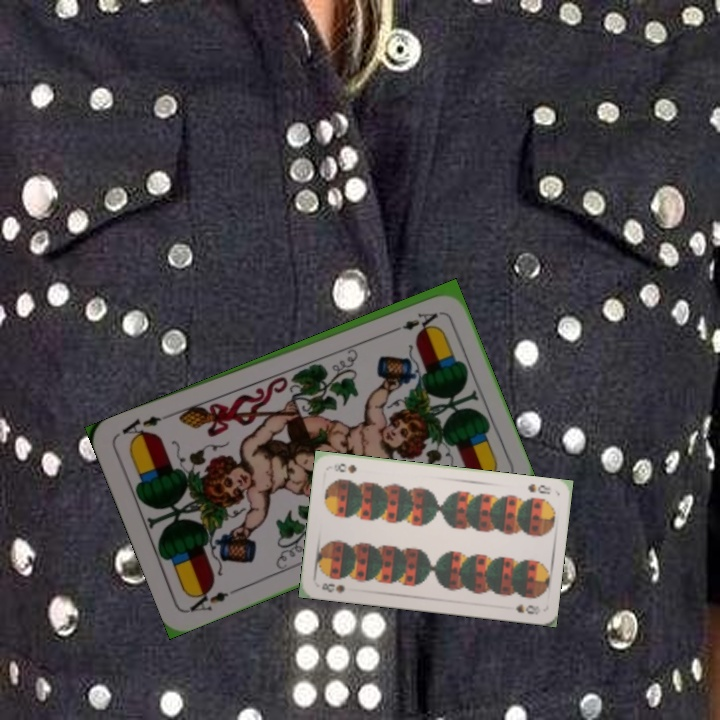EA: (185, 584, 241, 614), (385, 308, 441, 337)
S8: (318, 579, 347, 596), (524, 480, 554, 496)
